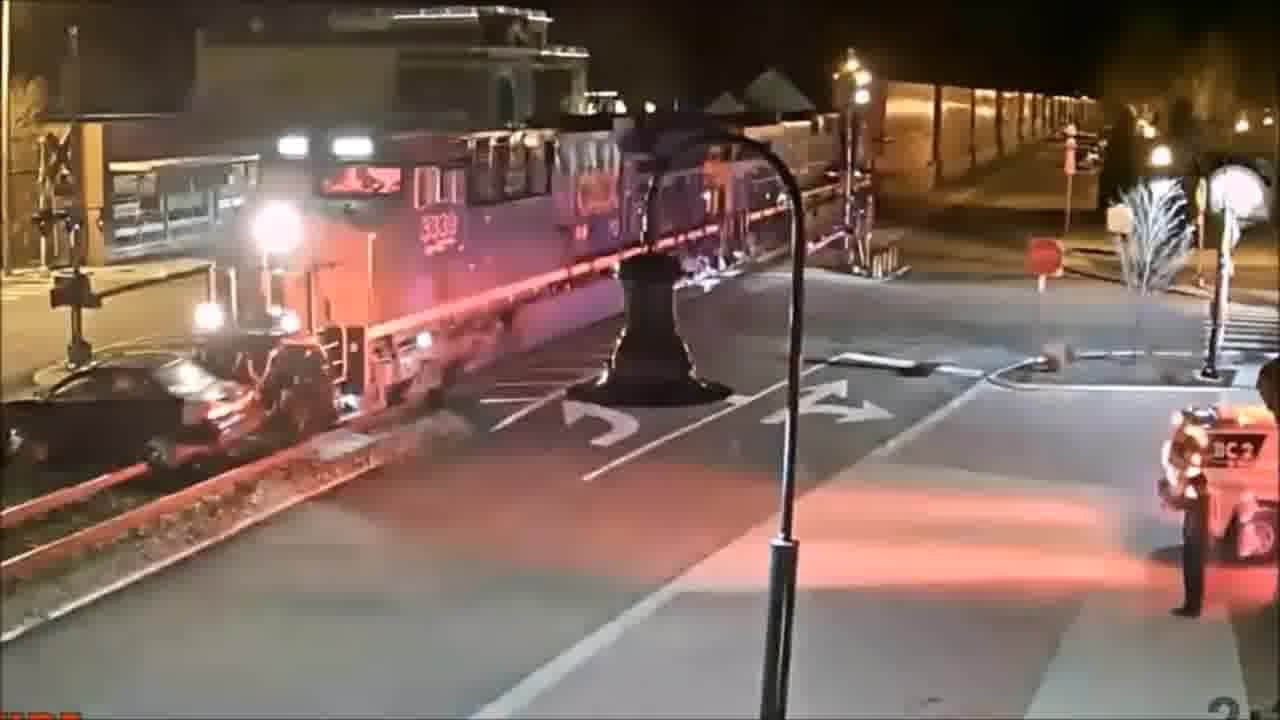crossing railway track: (3, 325, 258, 472)
